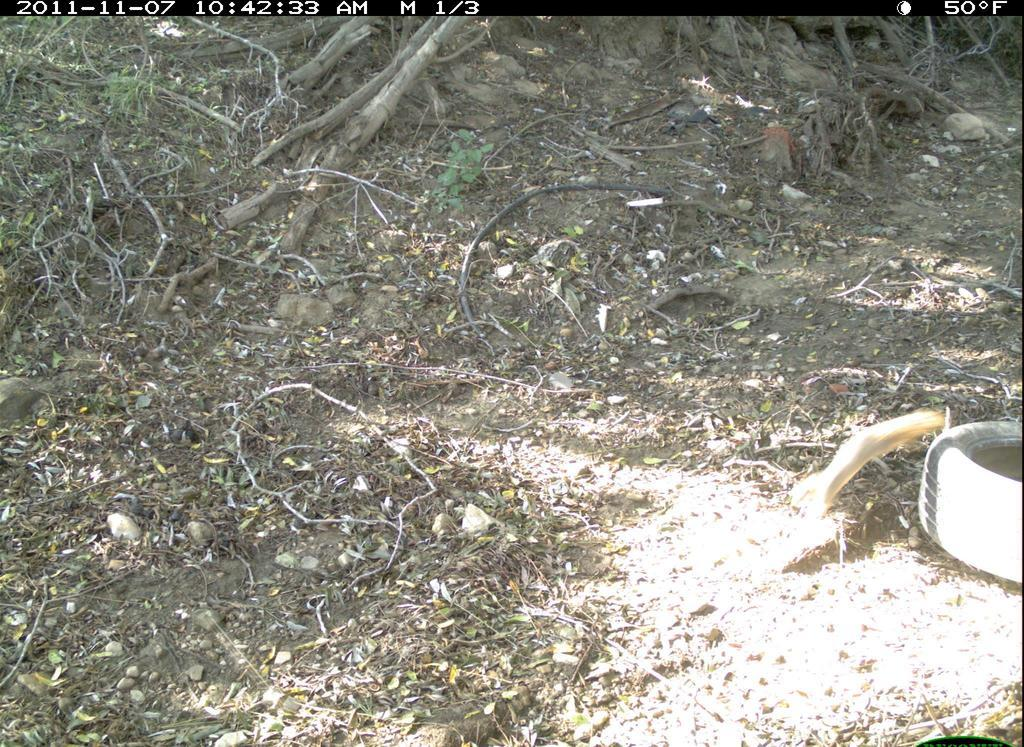squirrel: (766, 387, 952, 536)
